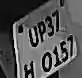0: (41, 49, 53, 72)
1: (51, 45, 61, 68)
3: (43, 16, 57, 40)
5: (58, 40, 69, 63)
7: (51, 9, 63, 37), (66, 34, 77, 58)
H: (23, 57, 36, 78)
P: (36, 17, 48, 46)
U: (28, 26, 39, 50)
